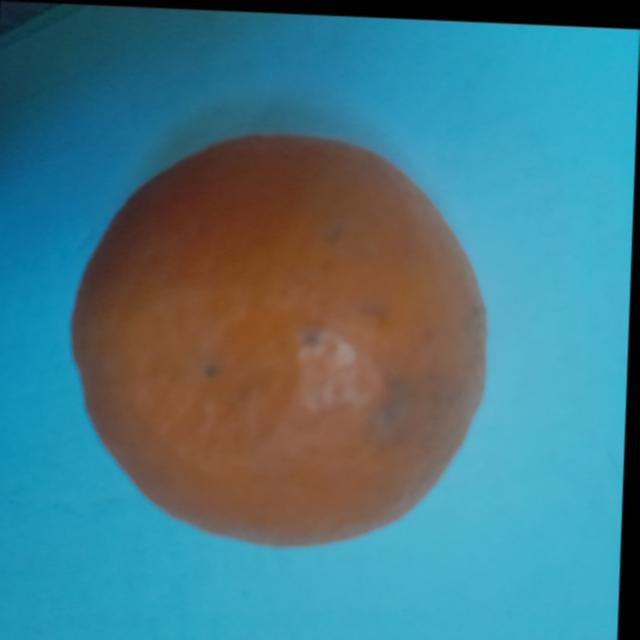Cam: (41, 97, 498, 554)
